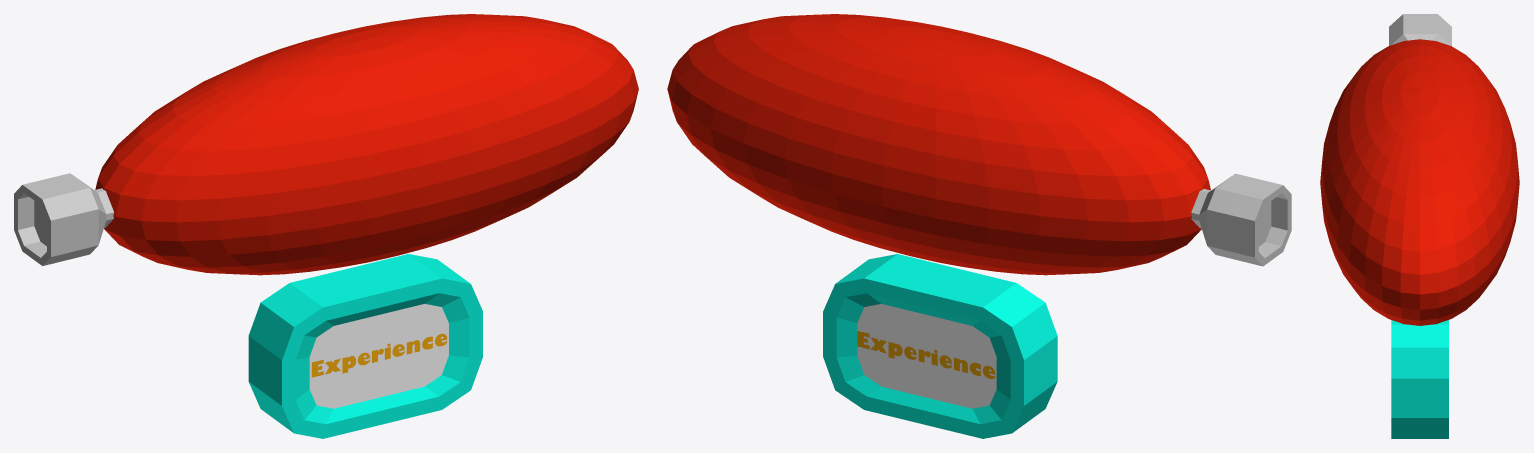
File: floatingBExperience.glb
3 views of the same model, side by side, from view 1: azimuth 30°, elevation 25°; view 2: azimuth 150°, elevation 25°; view 3: azimuth 270°, elevation 25° (orthographic). The views are drawn at different scales.
Parts seen in each view (by area): view 1: Cube.008; view 2: Cube.008; view 3: Cube.008.
Boxes of the visible parts, x1,y1,x2,y2 form: Cube.008: [14, 14, 638, 438]; Cube.008: [667, 14, 1291, 438]; Cube.008: [1320, 14, 1519, 438].
Bounding box in the file's own units: 17.34 × 10.29 × 5.81.
Materials: 4 (1 with a texture image).
